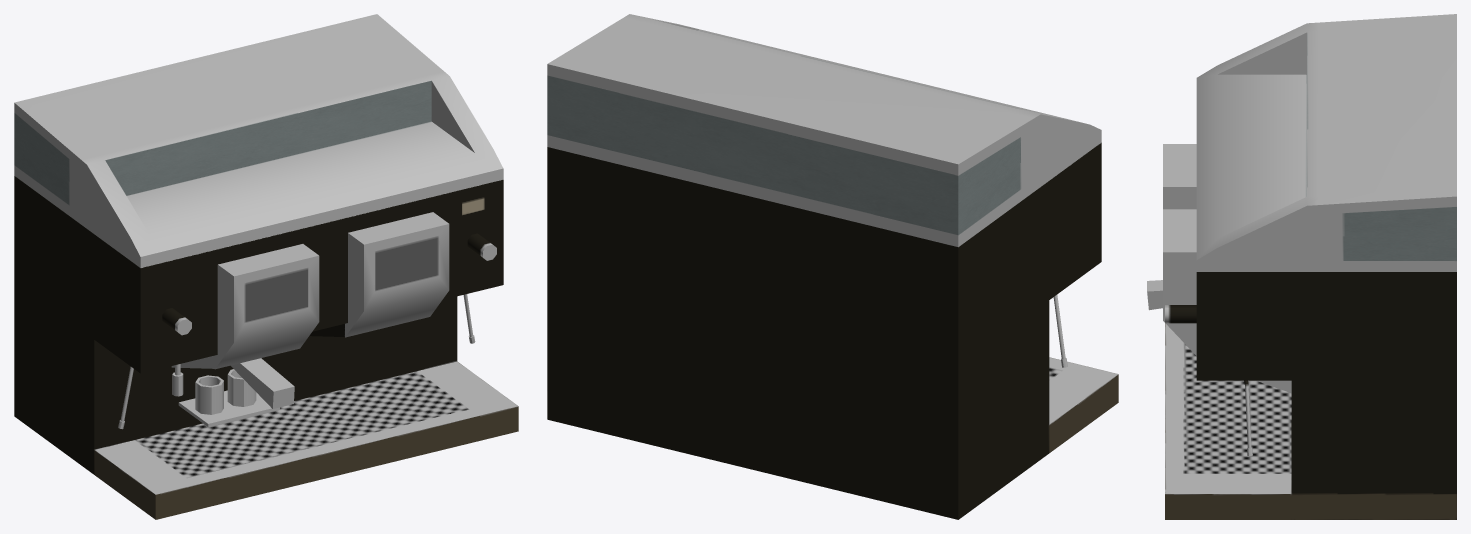
File: LC_3041_CoffeeMachine_LOD1.FBX
3 renders of one model, left to right at view 1: azimuth 30°, elevation 25°; view 2: azimuth 150°, elevation 25°; view 3: azimuth 270°, elevation 25°, orthographic. The views are drawn at different scales.
Parts seen in each view (by area): view 1: LC_3041_CoffeeMachine_LOD1; view 2: LC_3041_CoffeeMachine_LOD1; view 3: LC_3041_CoffeeMachine_LOD1.
Part boxes in pixels (bbox=[...]): LC_3041_CoffeeMachine_LOD1: bbox=[14, 14, 518, 519]; LC_3041_CoffeeMachine_LOD1: bbox=[547, 14, 1118, 519]; LC_3041_CoffeeMachine_LOD1: bbox=[1147, 14, 1456, 519].
Bounding box in the file's own units: 75 × 61.97 × 53.79.
1 material, 1 textured.
